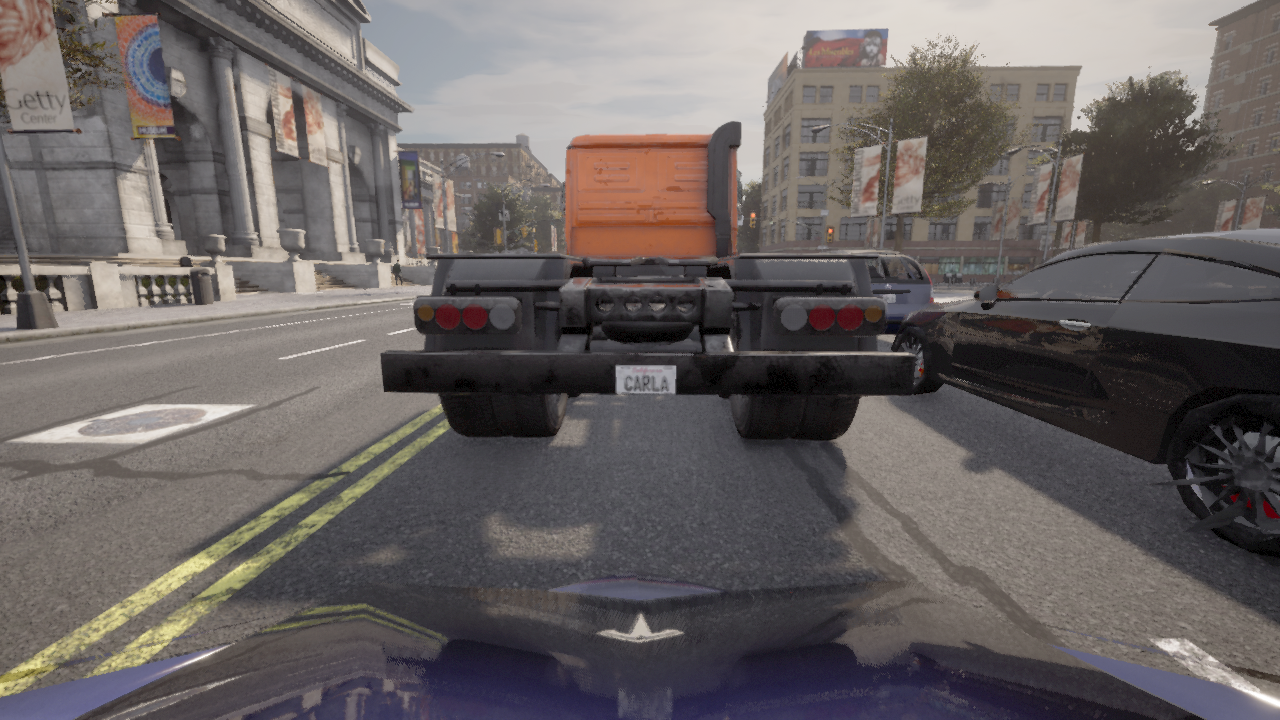cyclist: (0, 569, 1279, 719), (380, 121, 916, 439), (891, 228, 1279, 557), (818, 249, 932, 334)
pedestrian: (392, 258, 404, 293)
